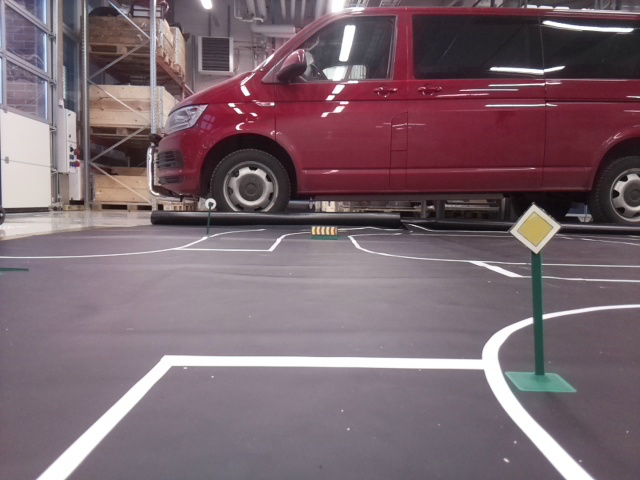Priority: (510, 200, 562, 252)
